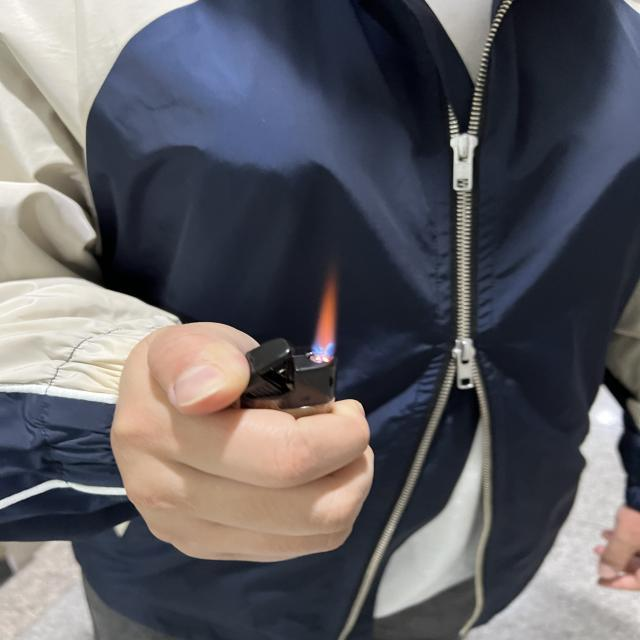fire: (310, 281, 339, 356)
